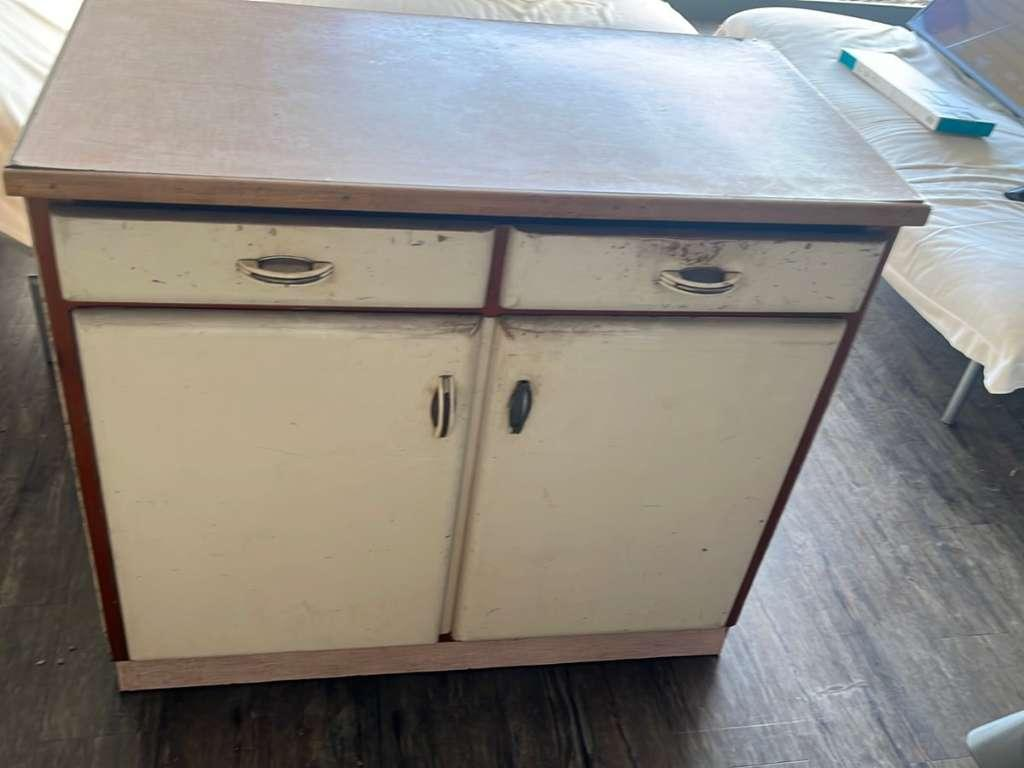cabinet_door: (100, 321, 466, 658), (482, 330, 801, 645), (49, 211, 486, 303), (509, 225, 870, 311)
handle: (235, 247, 342, 290), (654, 262, 747, 301), (424, 371, 463, 447), (501, 371, 542, 442)
